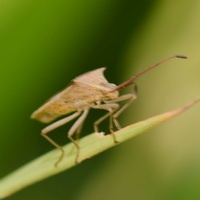insect: (31, 55, 186, 166)
